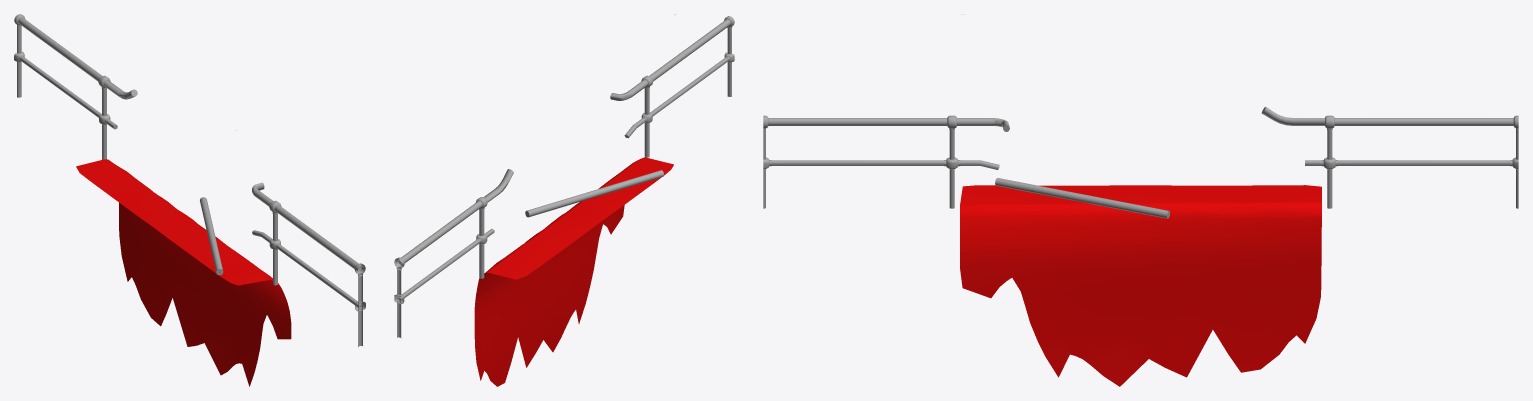
File: wall grab.fbx
The picture shows the model from 3 angles, left to right: view 1: azimuth 30°, elevation 25°; view 2: azimuth 150°, elevation 25°; view 3: azimuth 270°, elevation 25°; orthographic projection. The views are drawn at different scales.
Parts seen in each view (by area): view 1: polySurface52, polySurface51, Large_RampSideR_BROKEN, polySurface48; view 2: polySurface52, Large_RampSideR_BROKEN, polySurface51, polySurface48; view 3: polySurface51, Large_RampSideR_BROKEN, polySurface48.
Part boxes in pixels (left/top/right/bottom): polySurface52: left=76, top=166, right=290, bottom=386; polySurface51: left=76, top=159, right=291, bottom=386; Large_RampSideR_BROKEN: left=14, top=14, right=365, bottom=346; polySurface48: left=200, top=197, right=223, bottom=275; polySurface52: left=475, top=165, right=673, bottom=386; Large_RampSideR_BROKEN: left=394, top=16, right=734, bottom=338; polySurface51: left=474, top=157, right=673, bottom=380; polySurface48: left=525, top=170, right=663, bottom=217; polySurface51: left=960, top=185, right=1321, bottom=386; Large_RampSideR_BROKEN: left=763, top=106, right=1518, bottom=208; polySurface48: left=995, top=178, right=1170, bottom=218.
Bounding box in the file's own units: 0.6806 × 3.01 × 6.
